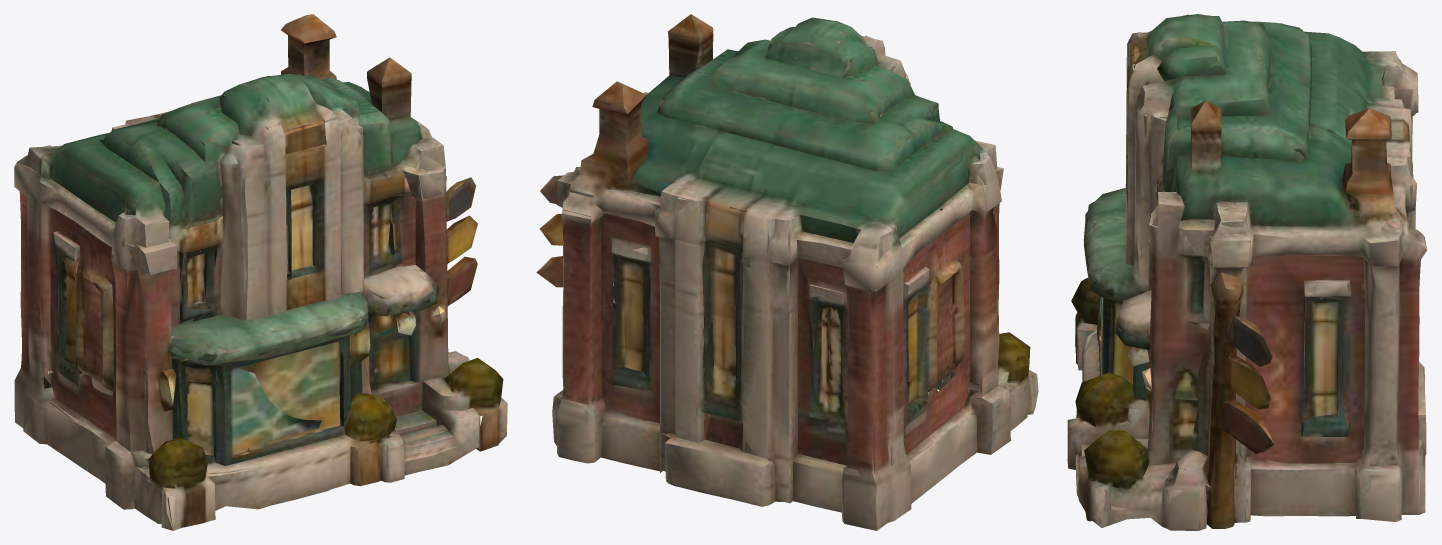
3 renders of one model, left to right at view 1: azimuth 30°, elevation 25°; view 2: azimuth 150°, elevation 25°; view 3: azimuth 270°, elevation 25°, orthographic. The views are drawn at different scales.
Parts seen in each view (by area): view 1: expansion__junction_hub__neural_lod; view 2: expansion__junction_hub__neural_lod; view 3: expansion__junction_hub__neural_lod.
Boxes of the visible parts, x1=… form: expansion__junction_hub__neural_lod: x1=14, y1=14, x2=507, y2=530; expansion__junction_hub__neural_lod: x1=536, y1=14, x2=1038, y2=530; expansion__junction_hub__neural_lod: x1=1067, y1=14, x2=1427, y2=530.
Bounding box in the file's own units: 0.9937 × 0.8826 × 0.6972.
1 material, 1 textured.
